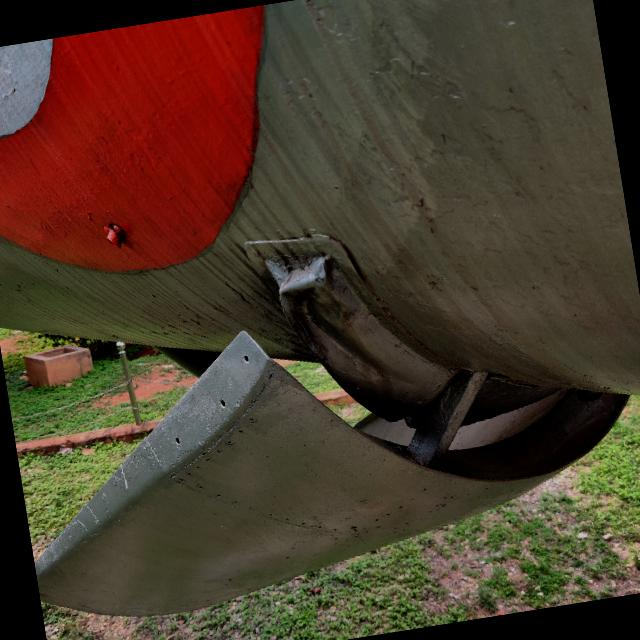dent: (256, 240, 396, 412)
